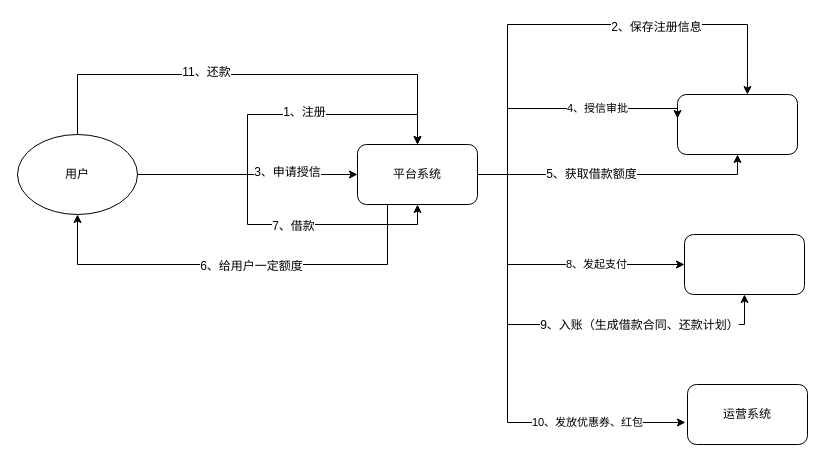
Some shapes in this 825 by 462 pixel diagram are drawn without their labels. The centre of each missing label's shape, as x and y in pixels:
"核心系统" goes at [744,264].
"风险系统" goes at [737,124].
